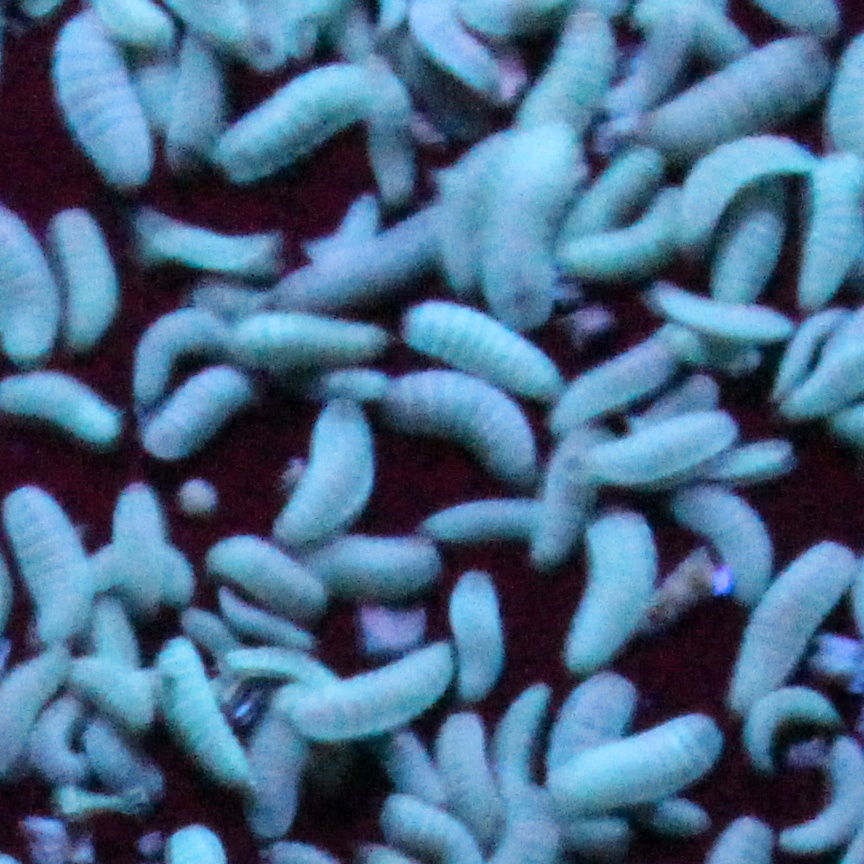larve: (44, 7, 160, 194), (222, 63, 404, 179), (477, 118, 577, 325), (731, 545, 853, 714), (646, 38, 829, 147), (566, 708, 724, 827), (271, 207, 451, 308), (378, 372, 535, 485), (397, 298, 564, 399), (678, 132, 817, 252), (269, 403, 386, 545), (544, 674, 635, 852), (566, 503, 657, 668), (547, 332, 695, 428), (164, 630, 247, 783), (300, 645, 453, 727), (673, 479, 771, 603), (564, 141, 662, 261), (584, 408, 735, 485), (198, 527, 327, 616), (533, 427, 611, 563), (51, 205, 124, 348), (131, 203, 273, 276), (144, 367, 253, 458), (244, 694, 315, 830), (575, 187, 693, 268), (482, 679, 558, 798), (282, 538, 442, 594), (162, 18, 226, 156), (137, 299, 233, 390), (742, 678, 842, 765), (653, 279, 793, 339), (240, 312, 389, 367), (437, 718, 500, 845), (84, 541, 195, 605), (64, 656, 166, 725), (86, 721, 169, 805), (115, 485, 168, 616), (766, 310, 842, 387), (417, 499, 562, 539), (460, 570, 498, 699), (373, 725, 437, 799), (224, 648, 338, 687), (706, 432, 798, 476), (315, 194, 377, 259)
